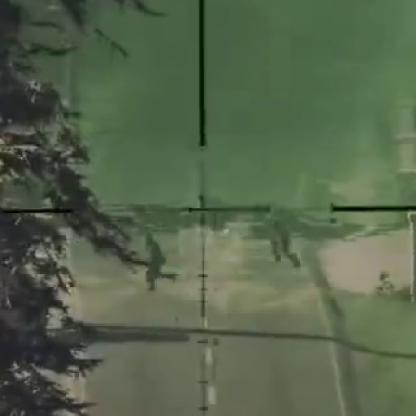enemy: (260, 206, 303, 268), (137, 230, 178, 289)
